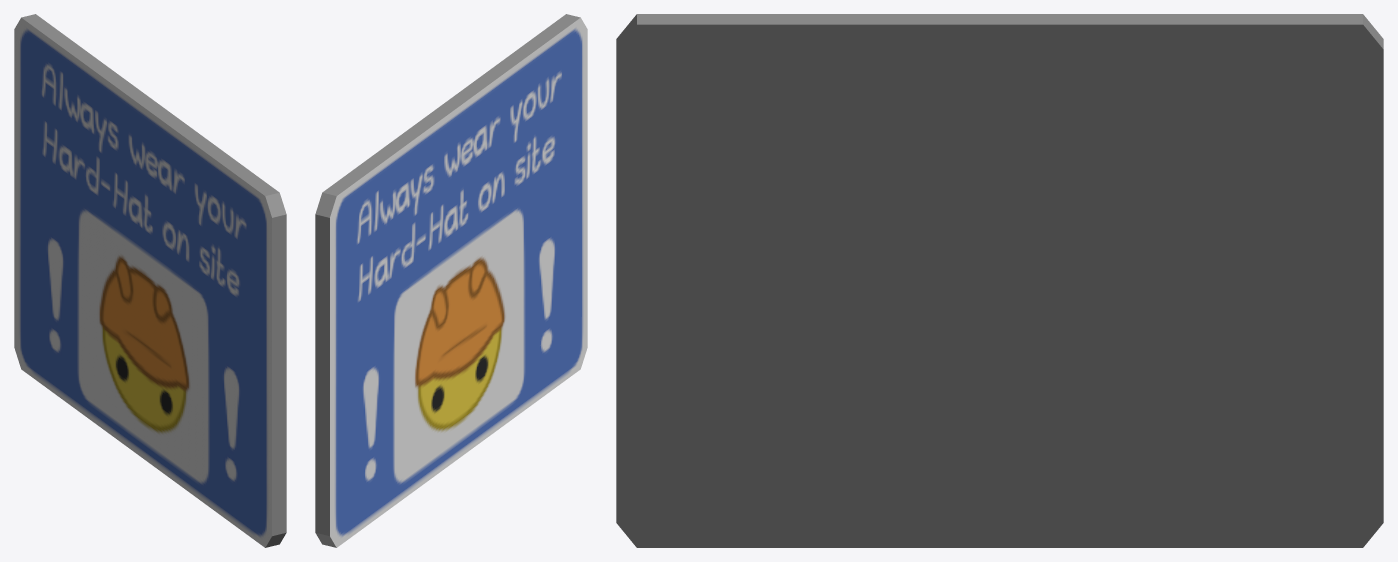
File: Hard Hat Sign.fbx
3 views of the same model, side by side, from view 1: azimuth 30°, elevation 25°; view 2: azimuth 150°, elevation 25°; view 3: azimuth 270°, elevation 25° (orthographic). The views are drawn at different scales.
Visible parts, largest first — view 1: Hard hat Sign; view 2: Hard hat Sign; view 3: Hard hat Sign.
Part boxes in pixels (left/top/right/bottom): Hard hat Sign: left=14, top=14, right=286, bottom=547; Hard hat Sign: left=315, top=14, right=587, bottom=547; Hard hat Sign: left=616, top=14, right=1383, bottom=547.
Size of the model in its own units: 0.0574 by 1.33 by 1.76.
